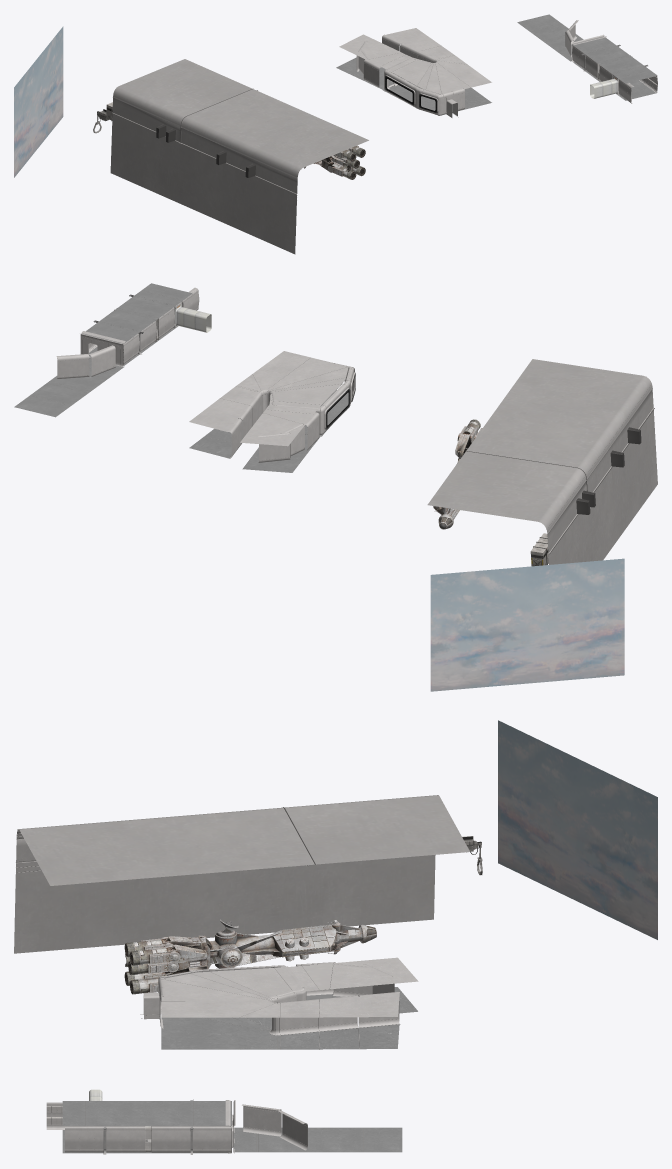
Rendered from env_mcq_hallway_01_pre.glb.
3 renders of one model, top to bottom at view 1: azimuth 30°, elevation 25°; view 2: azimuth 150°, elevation 25°; view 3: azimuth 270°, elevation 25°, orthographic. The views are drawn at different scales.
Parts seen in each view (by area): view 1: mcq_hallway_01_hangar_wall_01, mcq_hallway_01_skybox, mcq_hallway_01_ceiling, mcq_hallway_01_floor_02 (1), mcq_hallway_01_floor_01 (1), mcq_hallway_01_floor_02 (4), mcq_hallway_01_wall_07, veh_milleniumfalconconcept_01b (1), mcq_hallway_01_wall_04, veh_milleniumfalconconcept_01b, mcq_hallway_01_floor_02 (3), mcq_hallway_01_wall_05 (2); view 2: mcq_hallway_01_hangar_wall_01, mcq_hallway_01_skybox, mcq_hallway_01_ceiling, mcq_hallway_01_floor_02 (1), mcq_hallway_01_floor_02 (4), mcq_hallway_01_floor_01 (1), mcq_hallway_01_wall_07, mcq_hallway_01_wall_05 (2), mcq_hallway_01_wall_05 (4), veh_milleniumfalconconcept_01b, mcq_hallway_01_wall_05, mcq_hallway_01_wall_03 (1); view 3: mcq_hallway_01_hangar_wall_01, mcq_hallway_01_skybox, mcq_hallway_01_ceiling, mcq_hallway_01_floor_01 (1), veh_milleniumfalconconcept_01b, mcq_hallway_01_floor_02 (1), mcq_hallway_01_floor_02 (4), veh_milleniumfalconconcept_01b (1), mcq_hallway_01_wall_05 (×2), mcq_hallway_01_wall_01 (6), mcq_hallway_01_wall_01 (12), mcq_hallway_01_wall_01 (14) (+3 smaller).
Boxes of the visible parts, x1,y1,x2,y2 form: mcq_hallway_01_hangar_wall_01: [110, 59, 368, 254]; mcq_hallway_01_skybox: [14, 26, 63, 177]; mcq_hallway_01_ceiling: [339, 28, 491, 94]; mcq_hallway_01_floor_02 (1): [572, 36, 657, 83]; mcq_hallway_01_floor_01 (1): [336, 57, 491, 111]; mcq_hallway_01_floor_02 (4): [517, 14, 583, 61]; mcq_hallway_01_wall_07: [384, 58, 439, 115]; veh_milleniumfalconconcept_01b (1): [304, 158, 365, 179]; mcq_hallway_01_wall_04: [440, 88, 464, 117]; veh_milleniumfalconconcept_01b: [326, 145, 365, 167]; mcq_hallway_01_floor_02 (3): [573, 62, 657, 100]; mcq_hallway_01_wall_05 (2): [363, 59, 381, 87]; mcq_hallway_01_hangar_wall_01: [427, 359, 657, 564]; mcq_hallway_01_skybox: [430, 558, 624, 691]; mcq_hallway_01_ceiling: [189, 351, 348, 446]; mcq_hallway_01_floor_02 (1): [82, 283, 192, 343]; mcq_hallway_01_floor_02 (4): [14, 358, 124, 417]; mcq_hallway_01_floor_01 (1): [189, 390, 348, 472]; mcq_hallway_01_wall_07: [271, 367, 355, 434]; mcq_hallway_01_wall_05 (2): [56, 354, 89, 379]; mcq_hallway_01_wall_05 (4): [258, 432, 290, 462]; veh_milleniumfalconconcept_01b: [436, 419, 482, 514]; mcq_hallway_01_wall_05: [89, 345, 115, 377]; mcq_hallway_01_wall_03 (1): [80, 333, 122, 366]; mcq_hallway_01_hangar_wall_01: [14, 795, 469, 953]; mcq_hallway_01_skybox: [498, 720, 657, 939]; mcq_hallway_01_ceiling: [161, 957, 418, 1017]; mcq_hallway_01_floor_01 (1): [161, 987, 417, 1049]; veh_milleniumfalconconcept_01b: [124, 919, 363, 970]; mcq_hallway_01_floor_02 (1): [62, 1101, 231, 1125]; mcq_hallway_01_floor_02 (4): [233, 1127, 402, 1152]; veh_milleniumfalconconcept_01b (1): [124, 937, 363, 994]; mcq_hallway_01_wall_05 (×2): [242, 999, 319, 1136]; mcq_hallway_01_wall_01 (6): [151, 1126, 190, 1152]; mcq_hallway_01_wall_01 (12): [106, 1126, 145, 1152]; mcq_hallway_01_wall_01 (14): [65, 1126, 103, 1152].
Size of the model in its own units: 99.86 by 17.01 by 69.36.
Materials: 16 (16 with a texture image).
